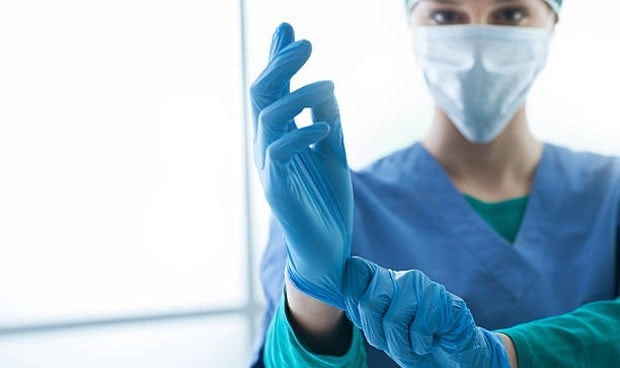glove: (240, 22, 355, 311), (345, 258, 509, 368)
